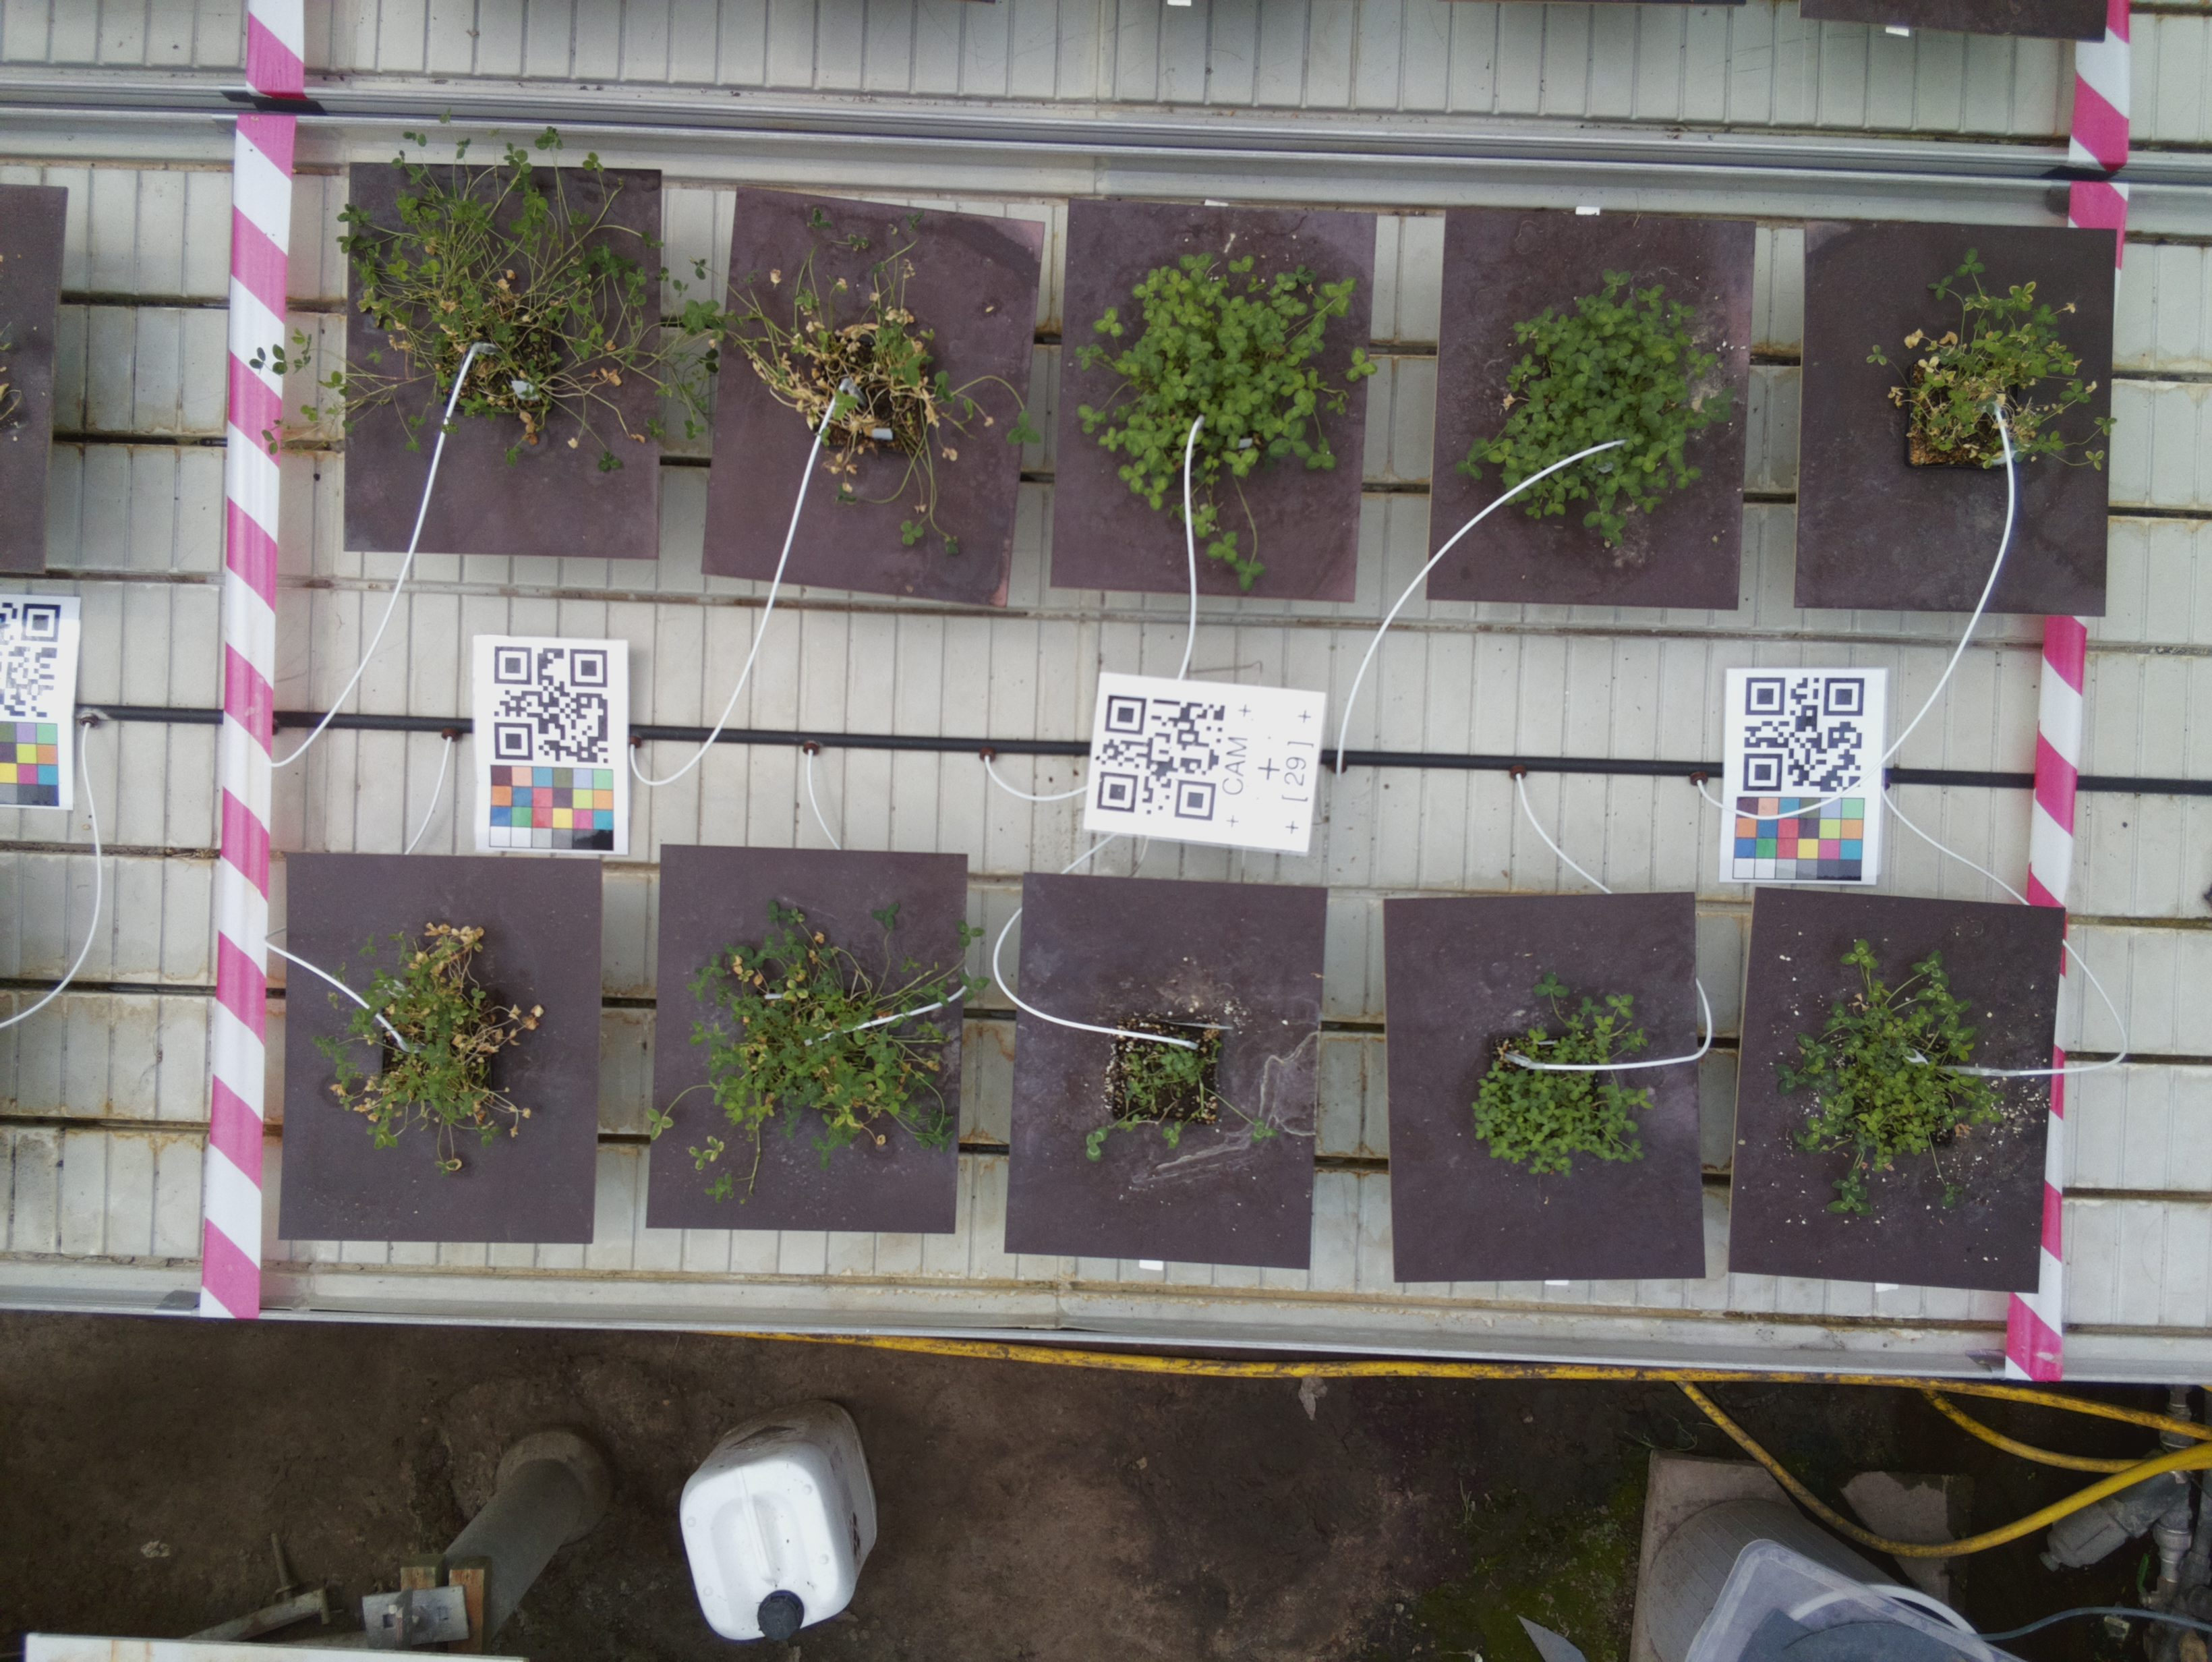POT: (1730, 901, 2072, 1283), (709, 190, 1027, 601), (1383, 896, 1707, 1278), (347, 164, 658, 555), (286, 848, 595, 1241), (1063, 196, 1358, 606), (1446, 204, 1742, 606), (658, 843, 958, 1238), (1809, 222, 2107, 608), (1018, 878, 1311, 1267)
QRCODE: (1086, 674, 1329, 855)
QRCOLOR: (1723, 669, 1886, 889), (471, 634, 629, 855)
